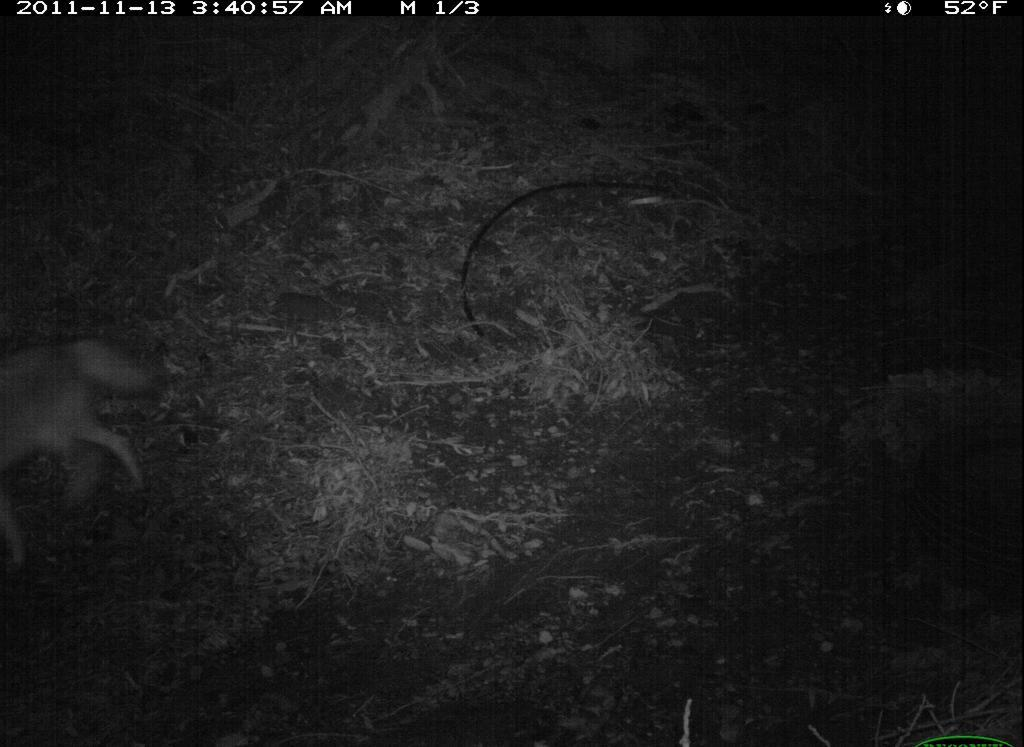coyote: (3, 249, 186, 580)
